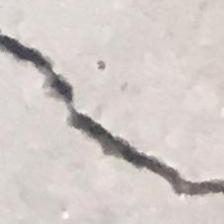Crack: (0, 12, 224, 217)
